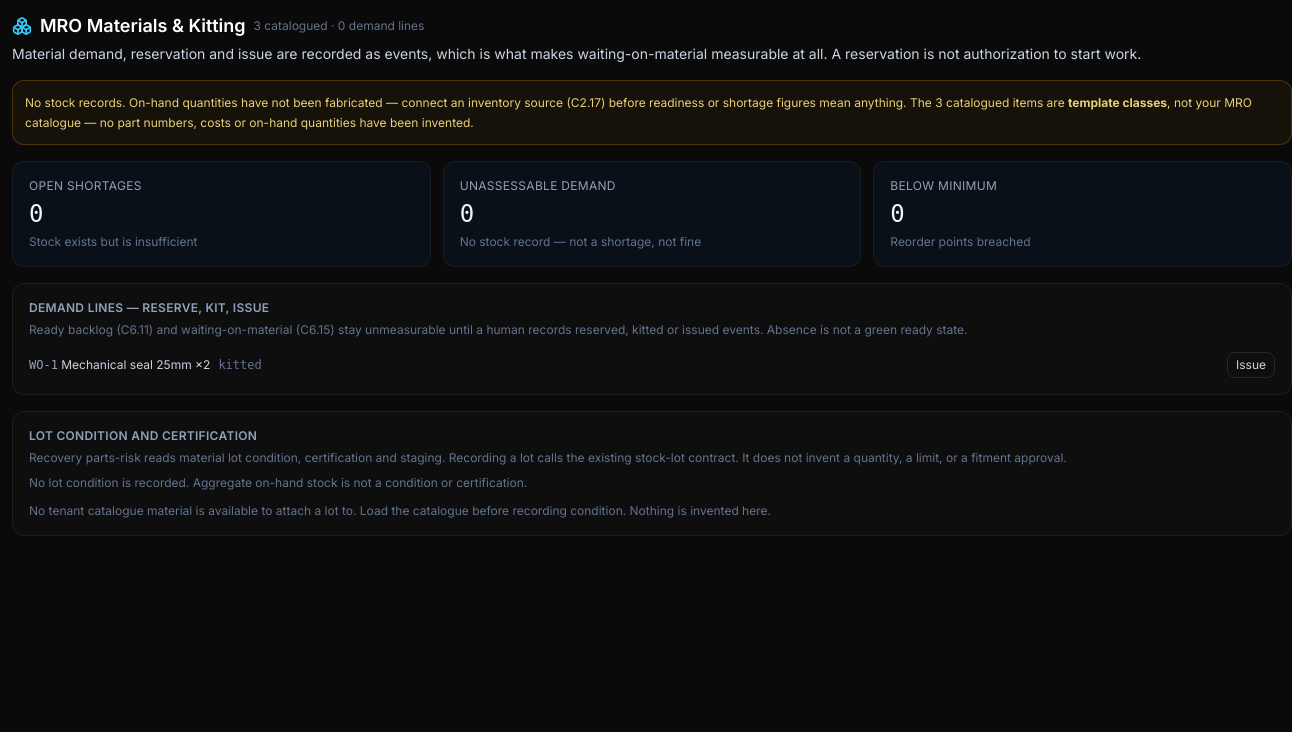
MaterialsReadiness kitting path › issues through record_material_event
Step 1. Click the button "Issue" → (1251, 364), box x1=1227 y1=352 x2=1275 y2=378
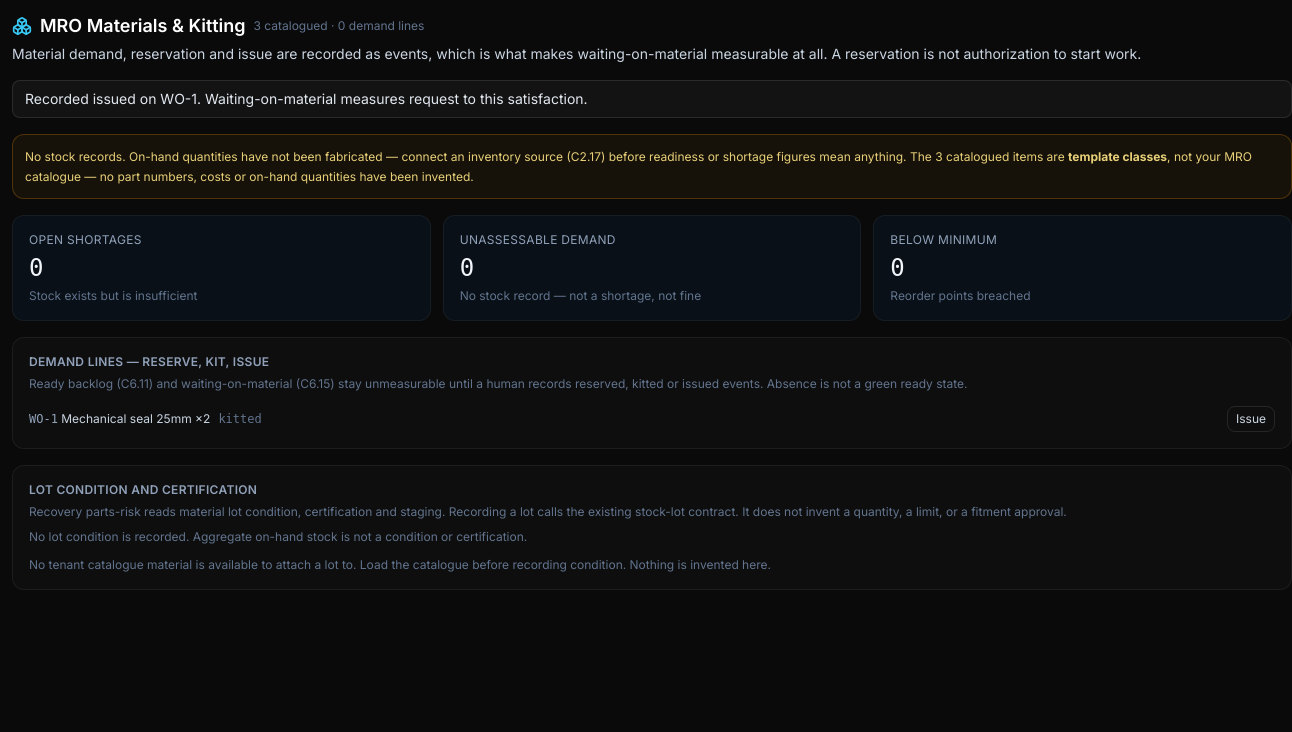
Result: the text "Waiting-on-material" is shown at x1=25 y1=90 x2=588 y2=107
